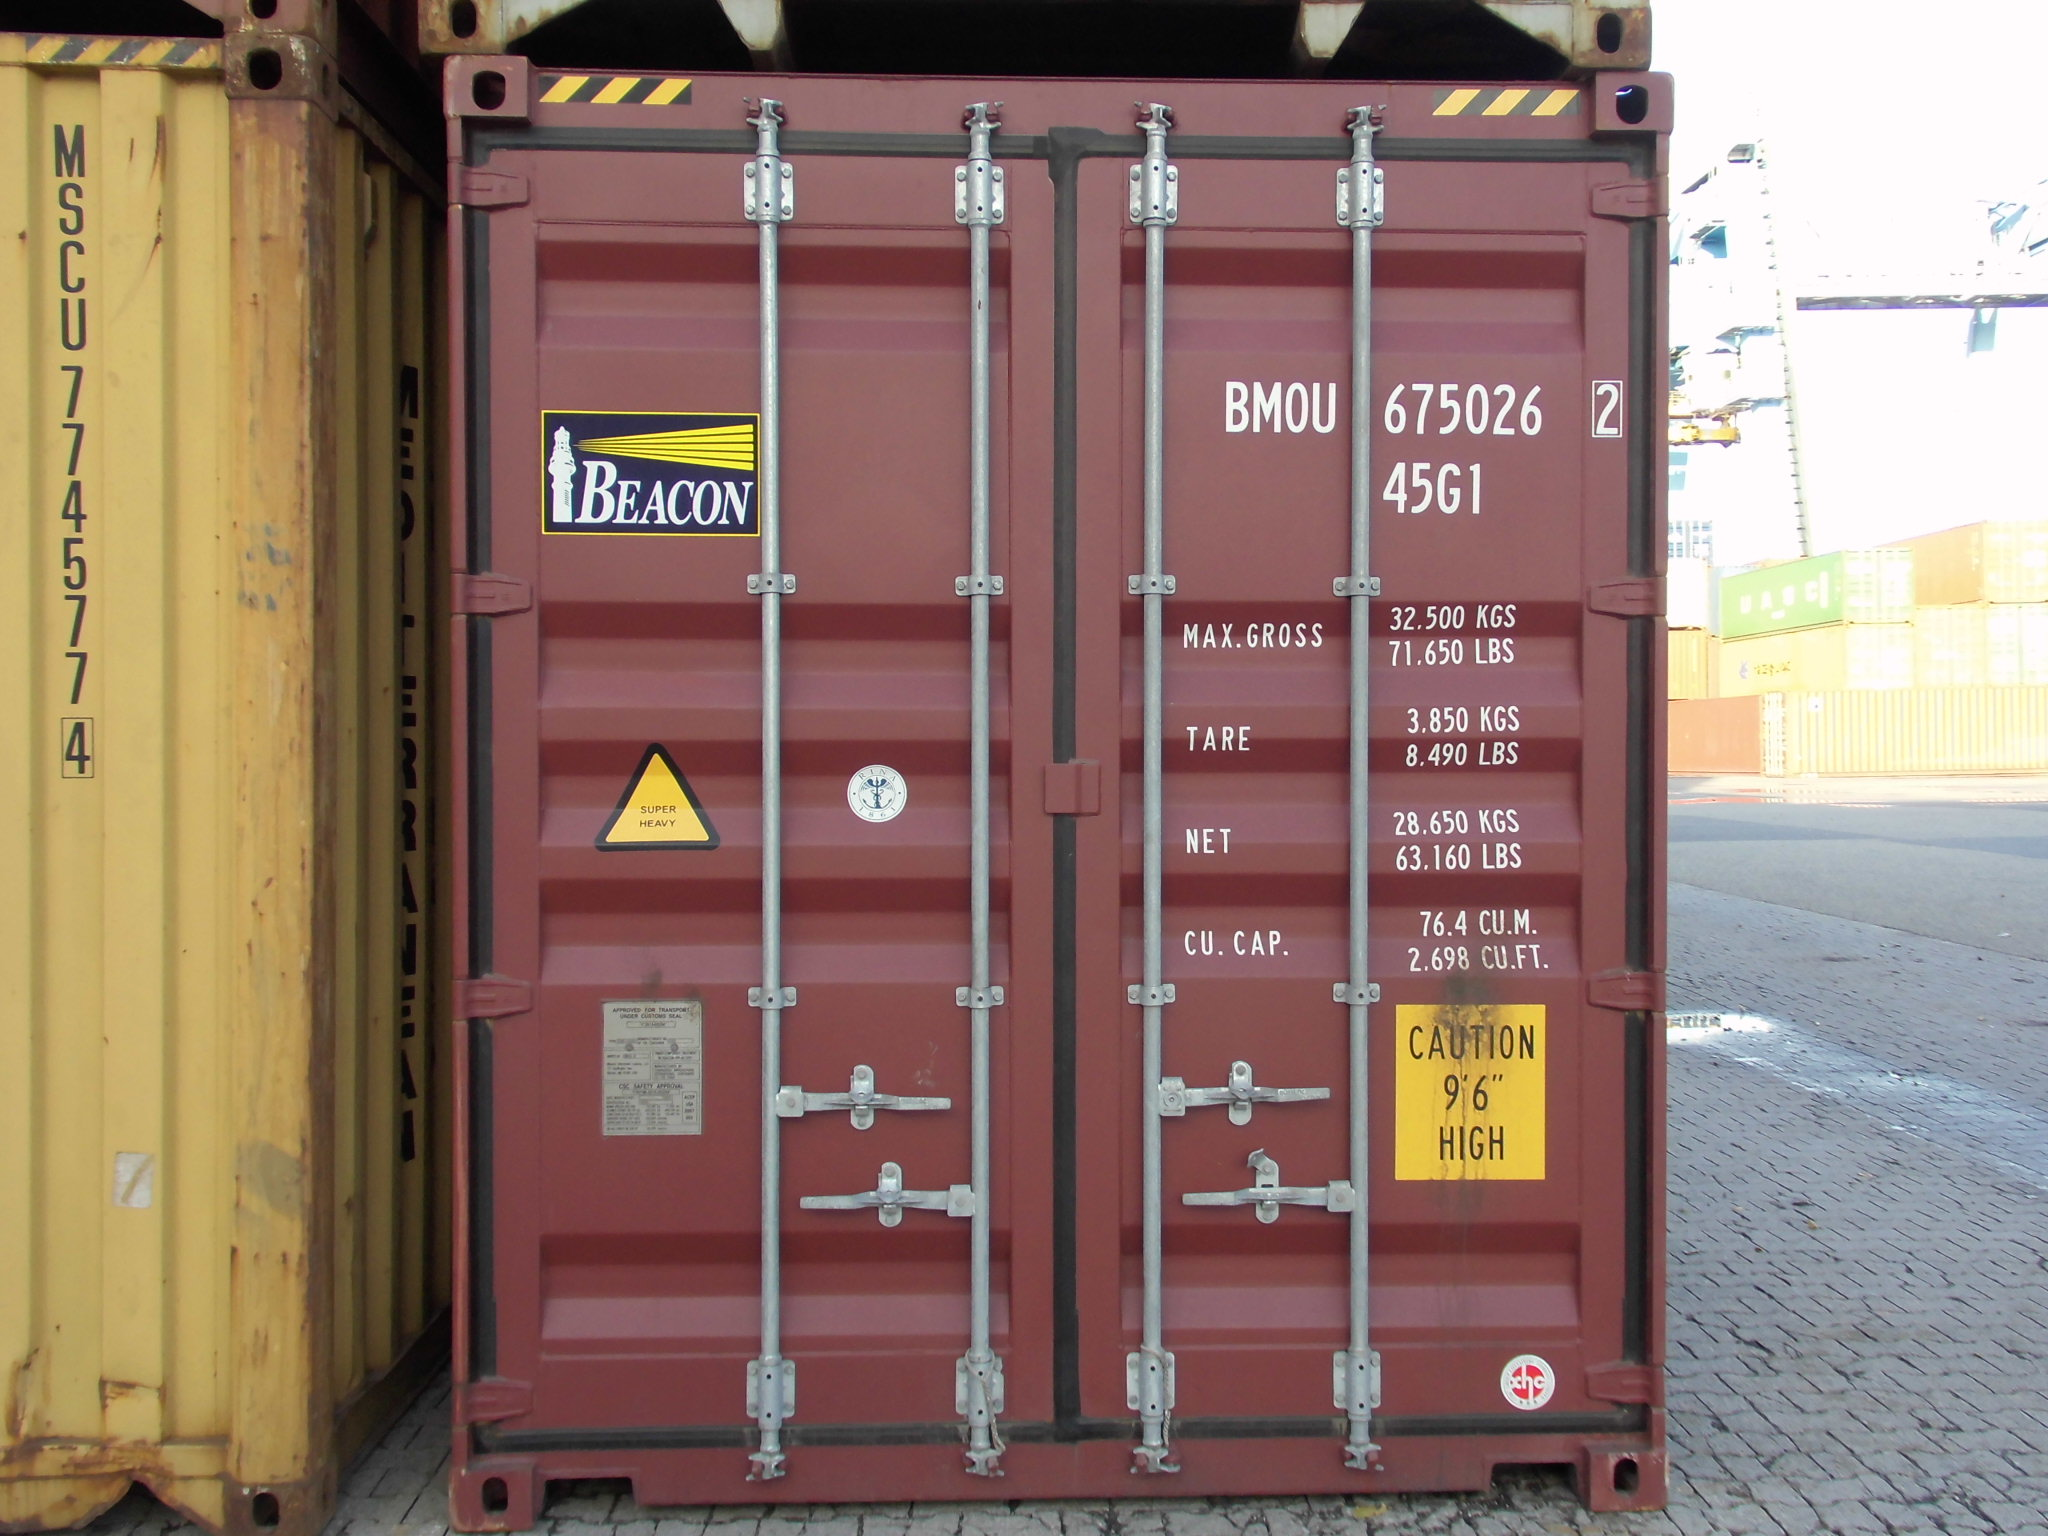container_door: (442, 53, 1672, 1518)
